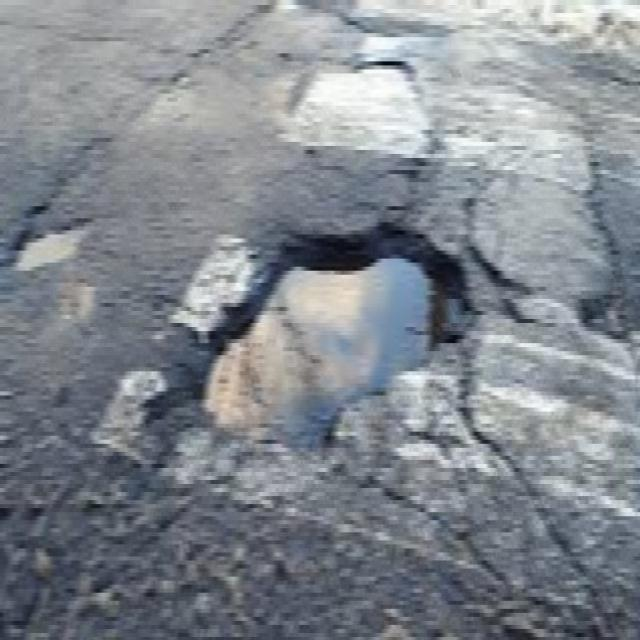Pothole: (167, 207, 500, 451), (286, 56, 440, 166), (0, 194, 99, 301), (588, 275, 640, 345)
